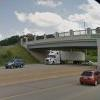Bridge: (20, 26, 96, 59)
